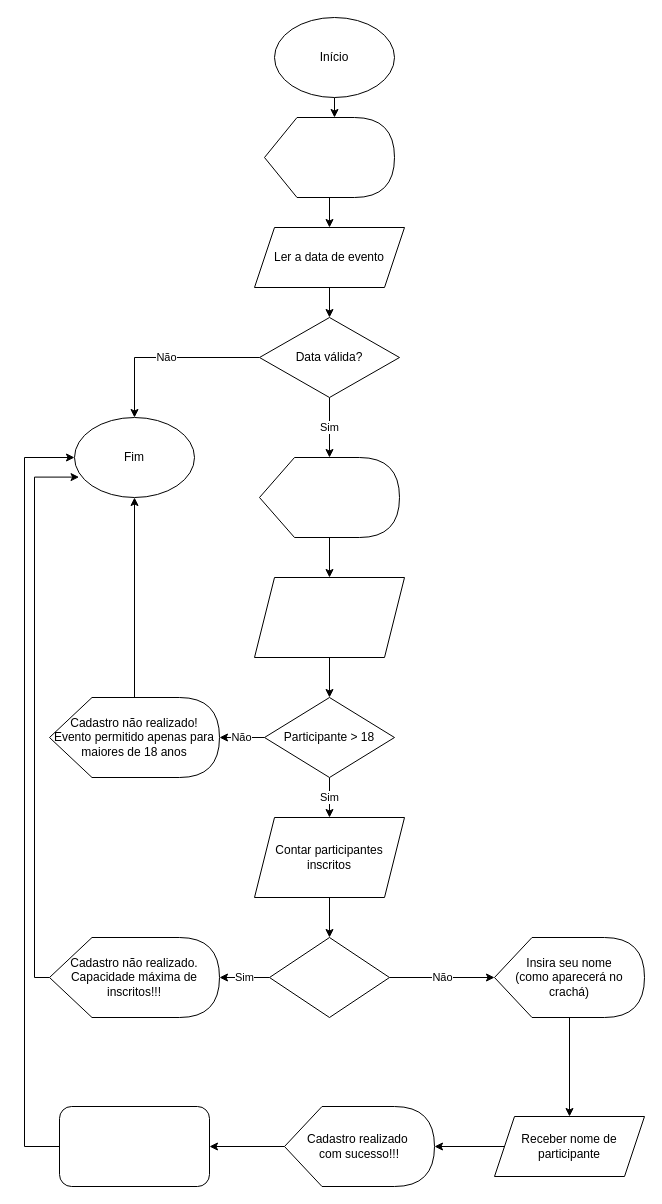
This 662x1204 diagram has some shape labels left out. The centre of each missing label's shape, as x and y in pixels:
"Gerar lista de participantes" goes at [134,1146].
"Insira data de evento:" goes at [329,157].
"Insira sua idade:" goes at [329,497].
"Ler idade" goes at [329,617].
"Número de participante > 100" goes at [329,977].
